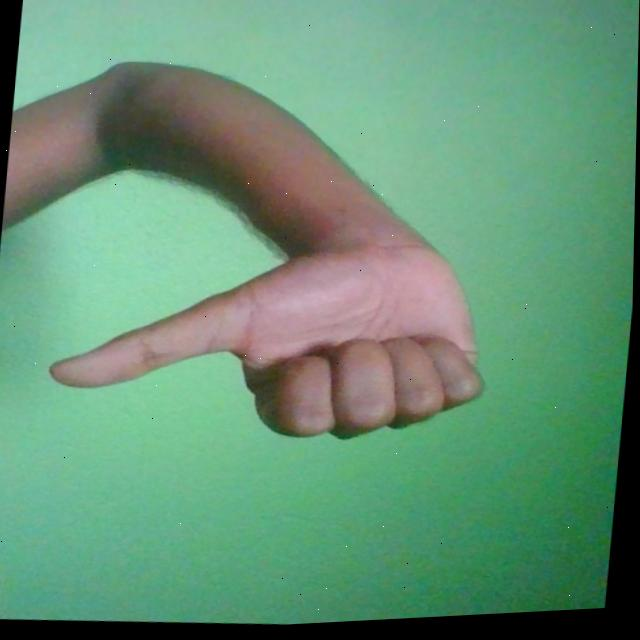Dislike: (43, 212, 497, 464)
